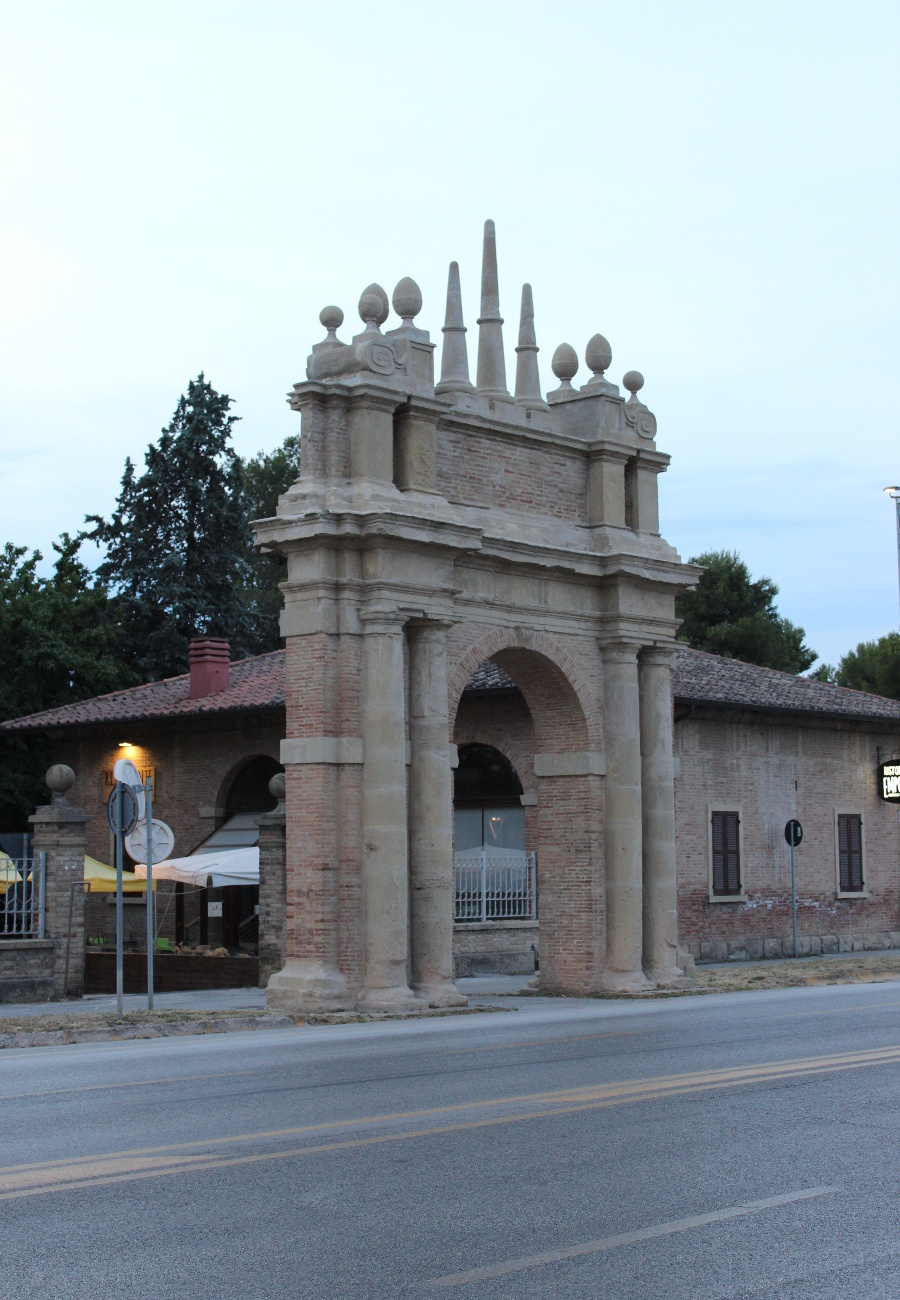Arco di Trionfo: (250, 211, 713, 1004)
